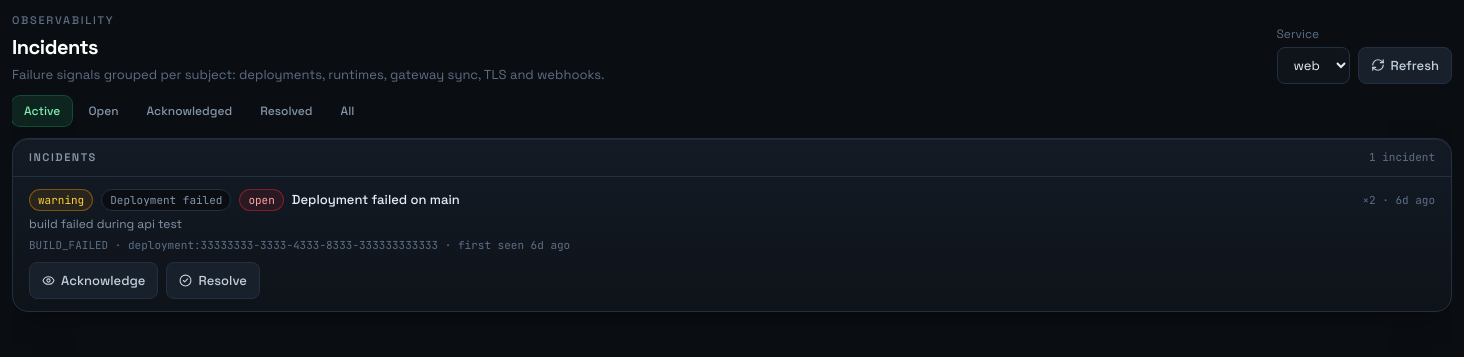
Test: IncidentsView › switching the status filter refetches with the new filter
Expected: the text "Deployment failed on main" is shown, [292,190,460,210]
Click the tab "Acknowledged": point(189, 111) [134,96,244,126]
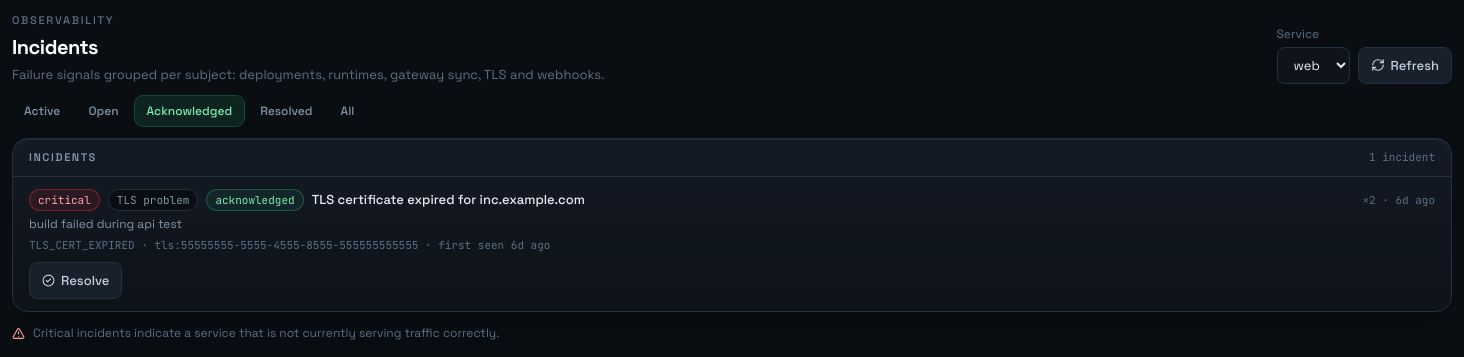
Now the text "TLS certificate expired for inc.example.com" is shown, box [312,190,585,210]
